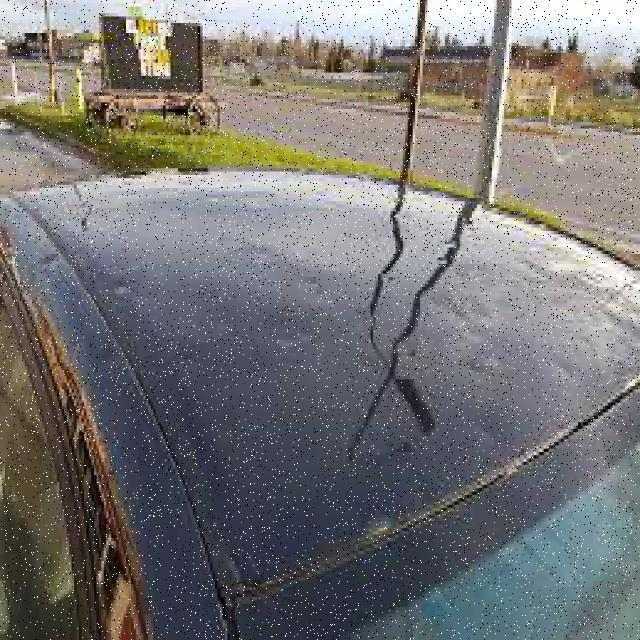roof-dent: (254, 148, 556, 541), (12, 172, 336, 498)
